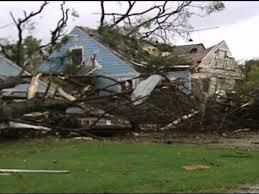major: (35, 15, 247, 111)
